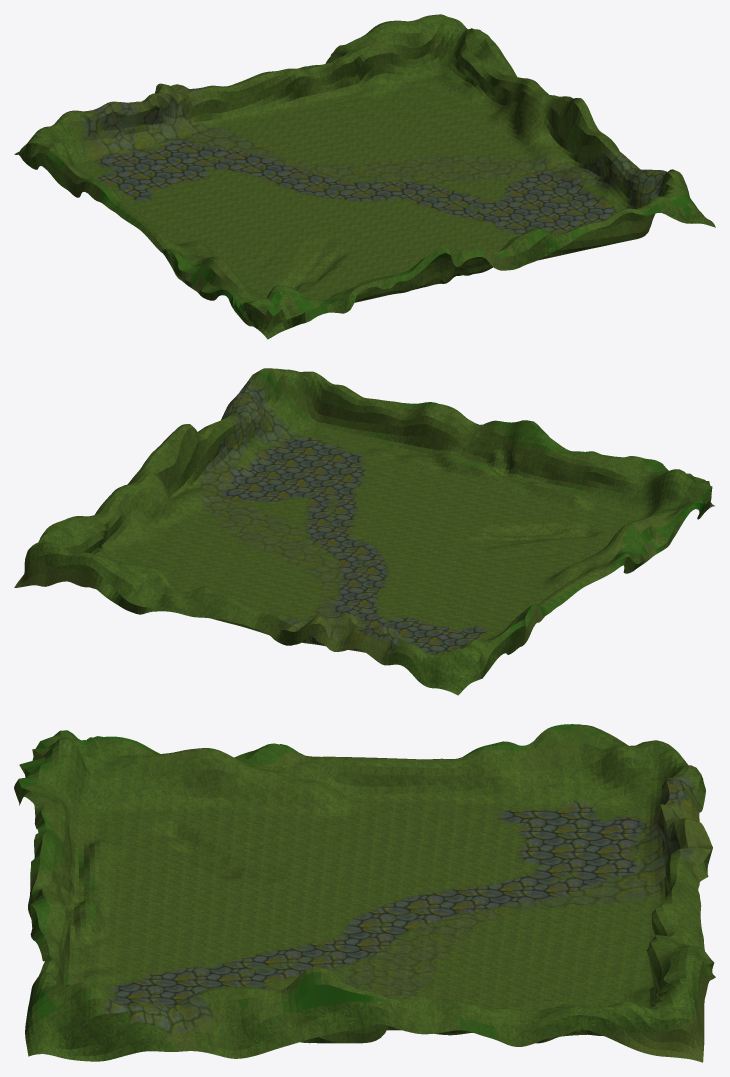
The model's file is terrain_test2.obj.
3 views of the same model, one above another, from view 1: azimuth 30°, elevation 25°; view 2: azimuth 150°, elevation 25°; view 3: azimuth 270°, elevation 25° (orthographic). The views are drawn at different scales.
Visible parts, largest first — view 1: Plane_Plane.002; view 2: Plane_Plane.002; view 3: Plane_Plane.002.
Part boxes in pixels (x1=…): Plane_Plane.002: x1=14, y1=14, x2=715, y2=339; Plane_Plane.002: x1=14, y1=368, x2=714, y2=695; Plane_Plane.002: x1=14, y1=724, x2=715, y2=1062.
Size of the model in its own units: 16.24 by 2.33 by 16.33.
